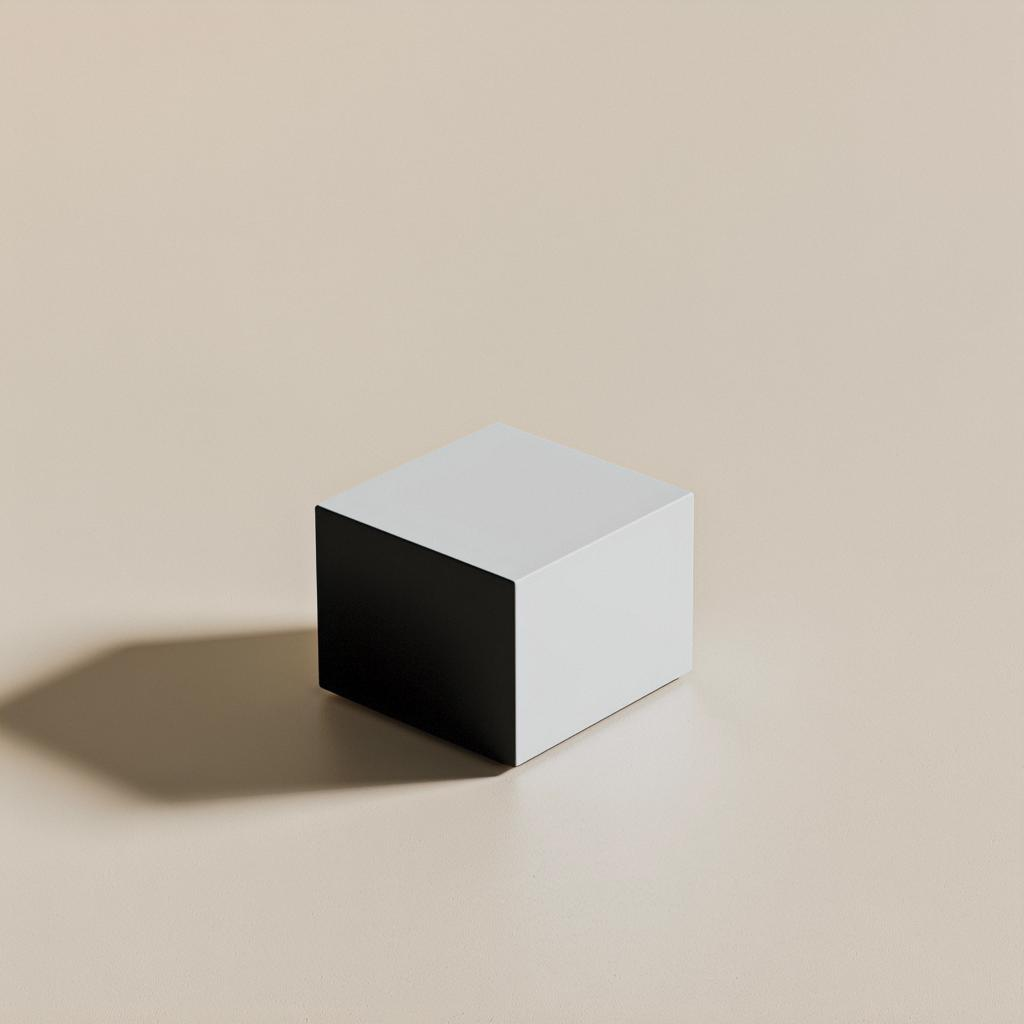cube: (312, 420, 695, 767)
